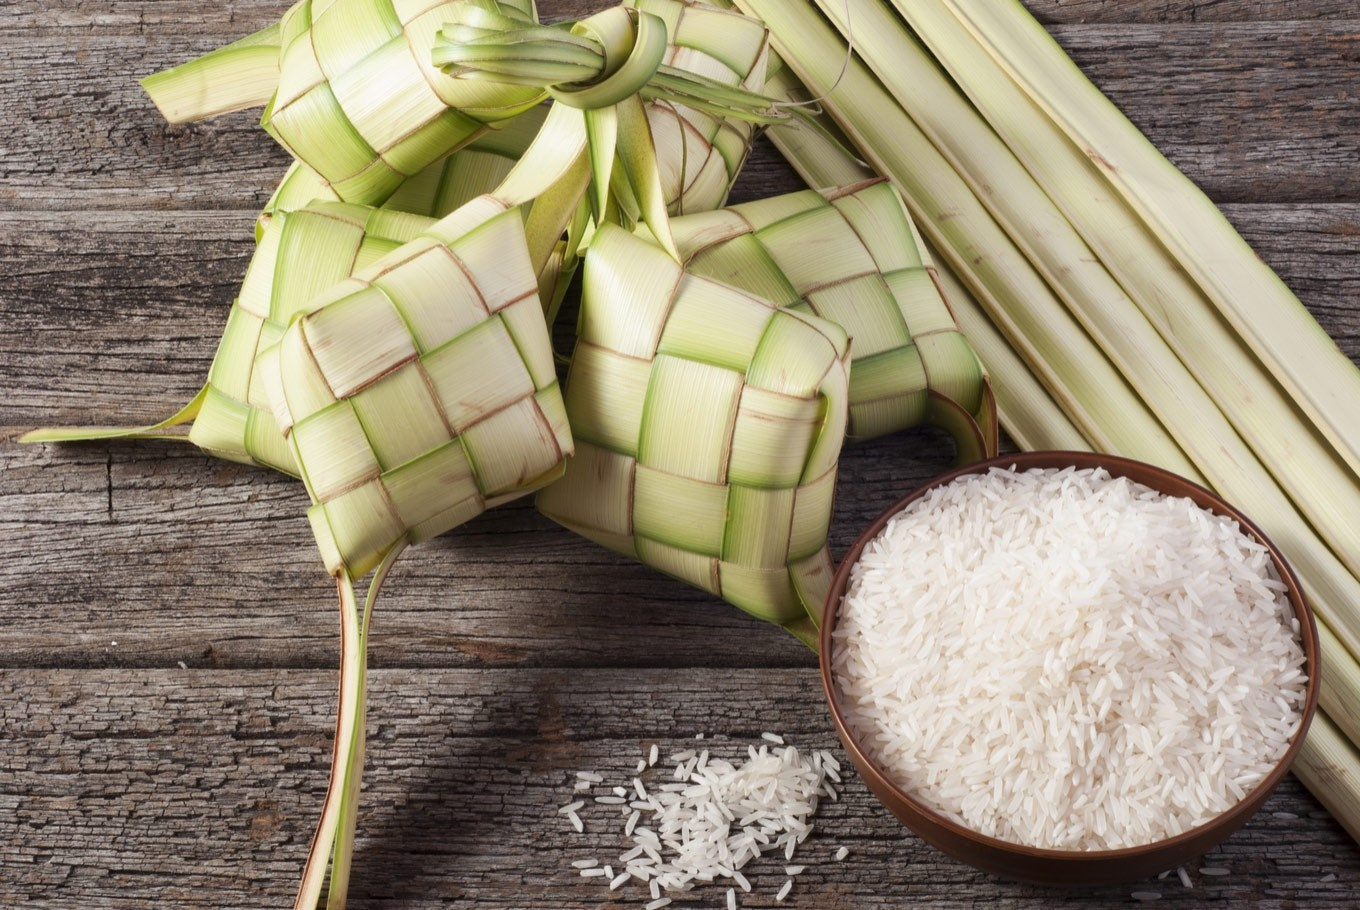ketupat: (535, 225, 849, 628), (253, 194, 570, 580)
